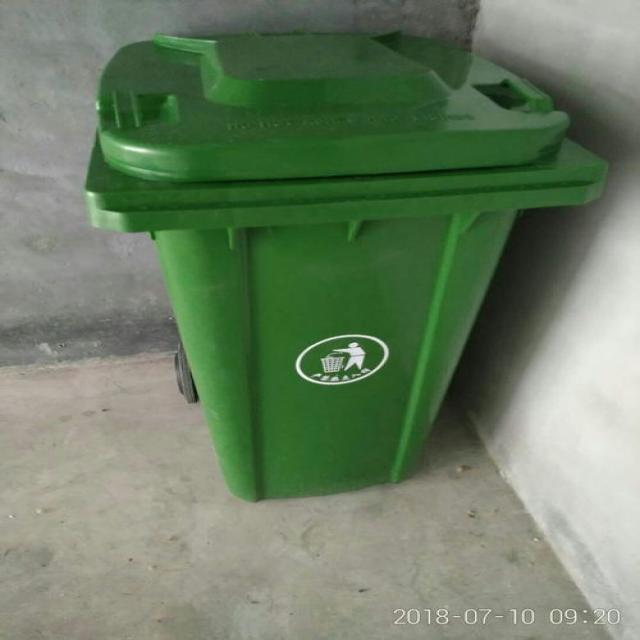garbage_bin: (83, 33, 608, 500)
